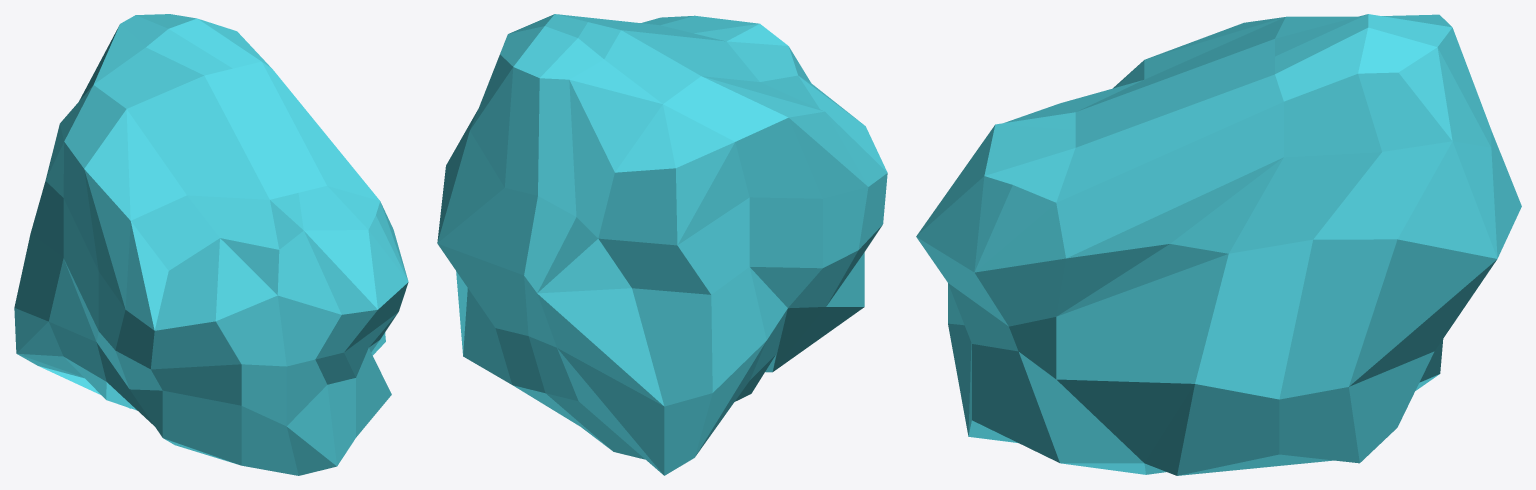
Rendered from Ice.fbx.
The picture shows the model from 3 angles, left to right: view 1: azimuth 30°, elevation 25°; view 2: azimuth 150°, elevation 25°; view 3: azimuth 270°, elevation 25°; orthographic projection. The views are drawn at different scales.
Parts seen in each view (by area): view 1: Cube; view 2: Cube; view 3: Cube.
Part boxes in pixels (x1,y1,x2,y2): Cube: (14,14,408,475); Cube: (437,14,887,475); Cube: (916,14,1521,475).
Size of the model in its own units: 108 by 130 by 154.
